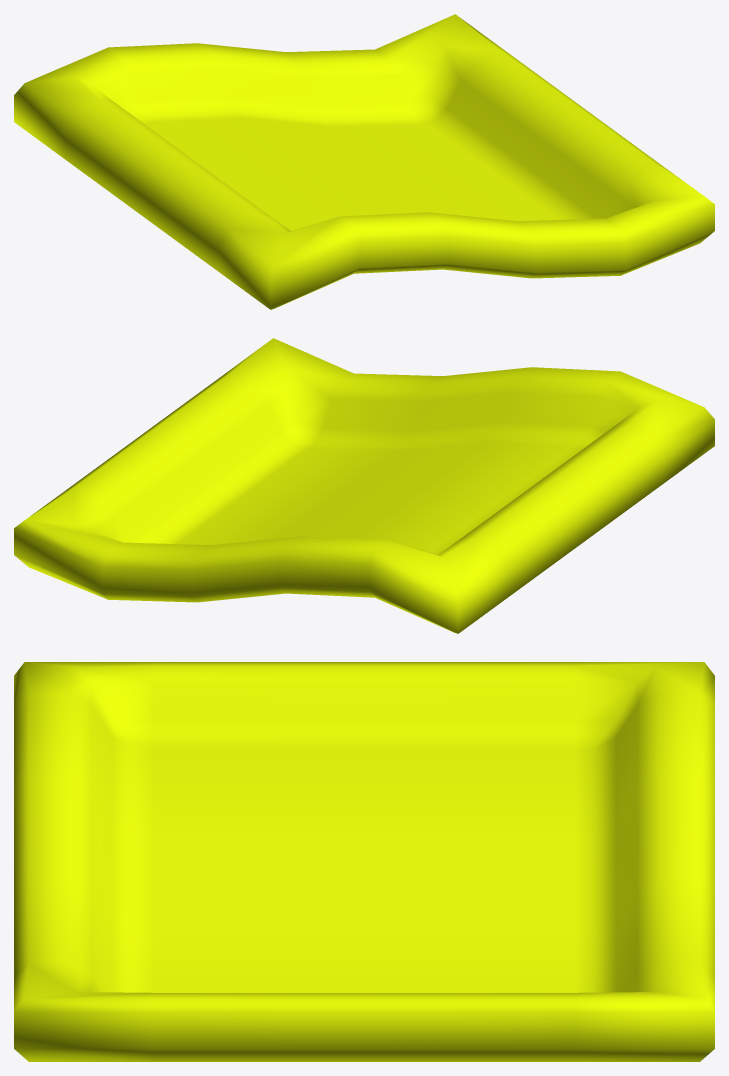
File: Bowl3.FBX
3 renders of one model, top to bottom at view 1: azimuth 30°, elevation 25°; view 2: azimuth 150°, elevation 25°; view 3: azimuth 270°, elevation 25°, orthographic. The views are drawn at different scales.
Parts seen in each view (by area): view 1: Box019; view 2: Box019; view 3: Box019.
Part boxes in pixels (x1,y1,x2,y2): Box019: [14, 14, 714, 309]; Box019: [14, 338, 714, 633]; Box019: [14, 662, 714, 1061].
Bounding box in the file's own units: 0.2966 × 0.0725 × 0.2966.
